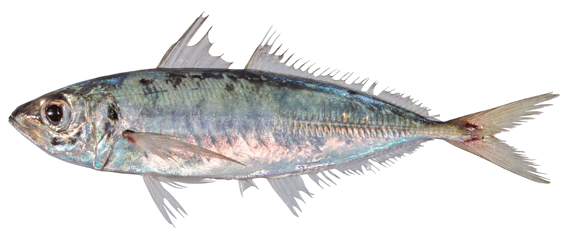fish: (9, 10, 560, 228)
